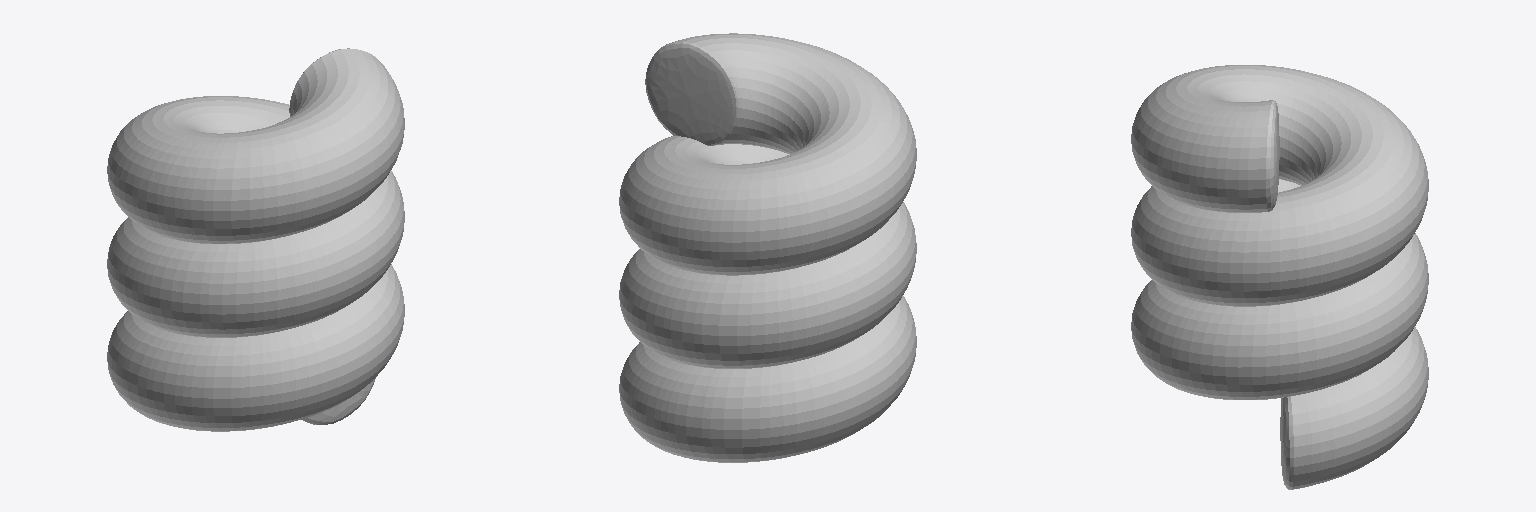
File: helix_62.5.obj
The picture shows the model from 3 angles: view 1: azimuth 30°, elevation 25°; view 2: azimuth 150°, elevation 25°; view 3: azimuth 270°, elevation 25°; orthographic projection.
Parts seen in each view (by area): view 1: helix:pHelix1; view 2: helix:pHelix1; view 3: helix:pHelix1.
Part boxes in pixels (bbox=[...]): helix:pHelix1: bbox=[107, 48, 404, 431]; helix:pHelix1: bbox=[619, 33, 916, 462]; helix:pHelix1: bbox=[1131, 65, 1428, 489].
Size of the model in its own units: 1.92 by 2.71 by 1.92.